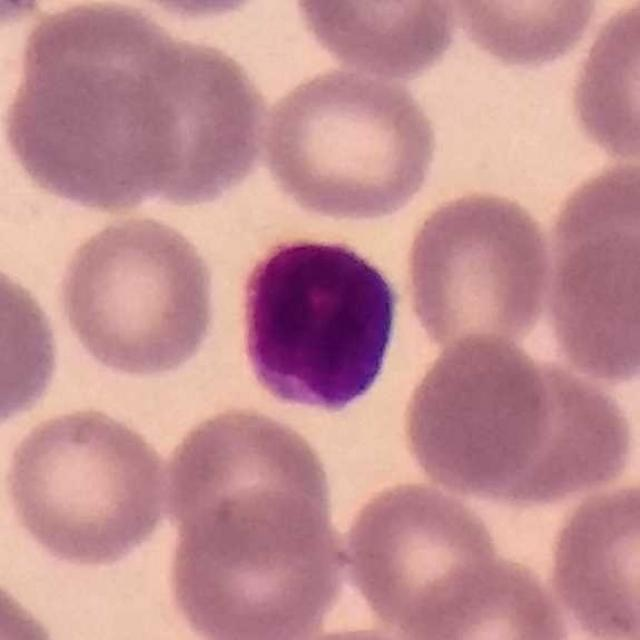Lymphocyte: (228, 232, 406, 421)
Platelets: (0, 0, 49, 29)
RBC: (100, 22, 272, 214), (438, 351, 636, 512), (256, 63, 443, 226), (0, 402, 175, 572), (52, 210, 223, 383), (0, 59, 186, 216), (157, 402, 339, 560), (160, 488, 348, 640), (397, 183, 558, 360), (10, 1, 205, 147), (396, 328, 556, 501), (336, 476, 505, 639), (538, 153, 640, 321), (540, 222, 640, 388), (543, 475, 640, 639), (401, 552, 573, 640), (287, 0, 461, 82), (563, 0, 640, 169), (436, 0, 605, 72), (0, 255, 66, 435), (0, 570, 66, 640), (109, 0, 285, 23), (268, 622, 449, 640)
